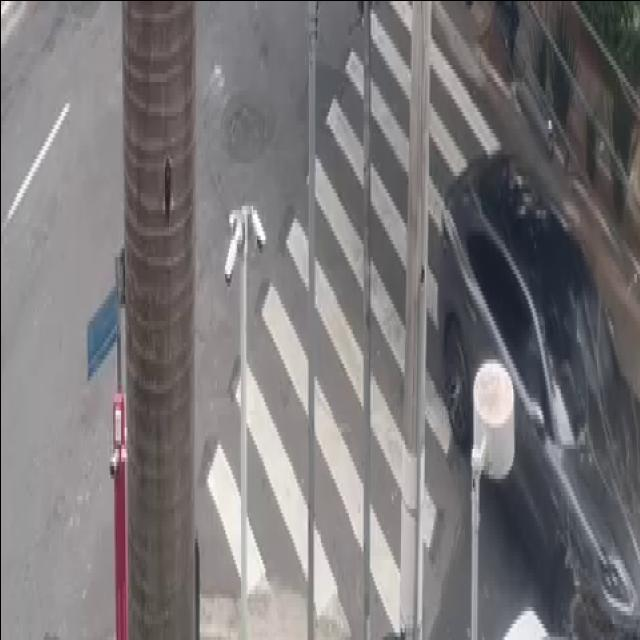car: (435, 224, 640, 640)
